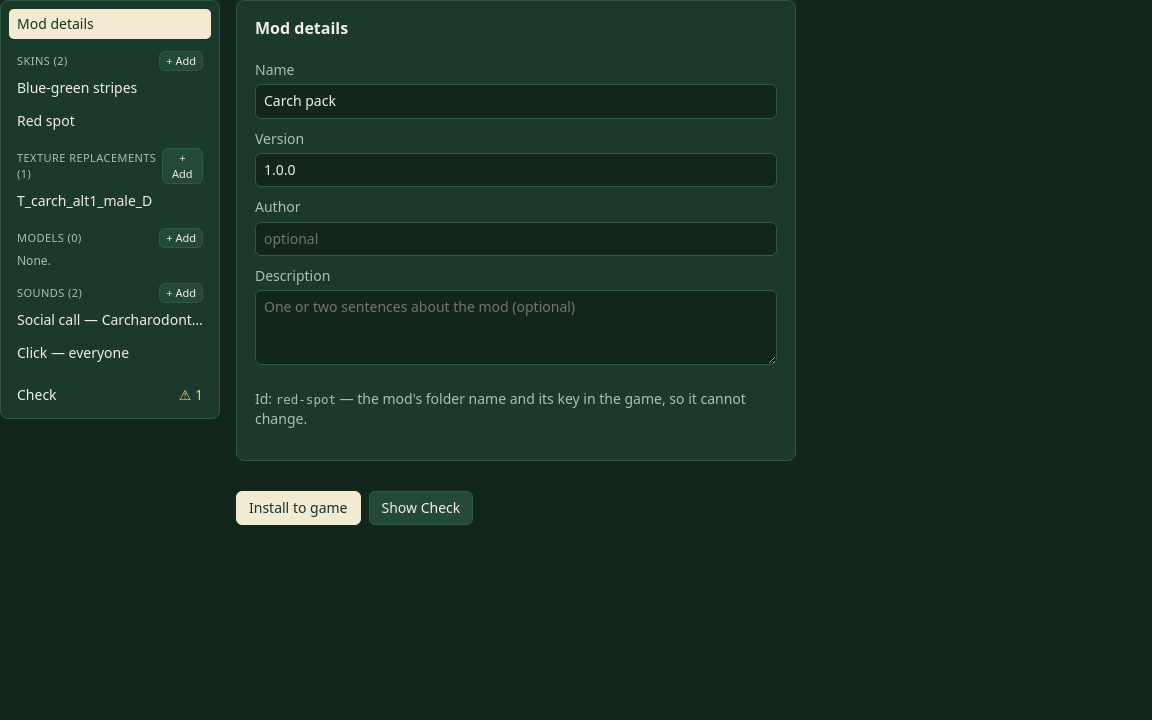
ModEditor › lists sounds under Sounds with who hears them and opens their page
The image size is (1152, 720).
Expected: the text "Sounds (2)" is shown, [17, 285, 82, 301]
Expected: the button "Click — everyone" is shown, [9, 338, 211, 368]
Click the button "Social call — Carcharodontosaurus".
click(110, 320)  # box [9, 305, 211, 336]
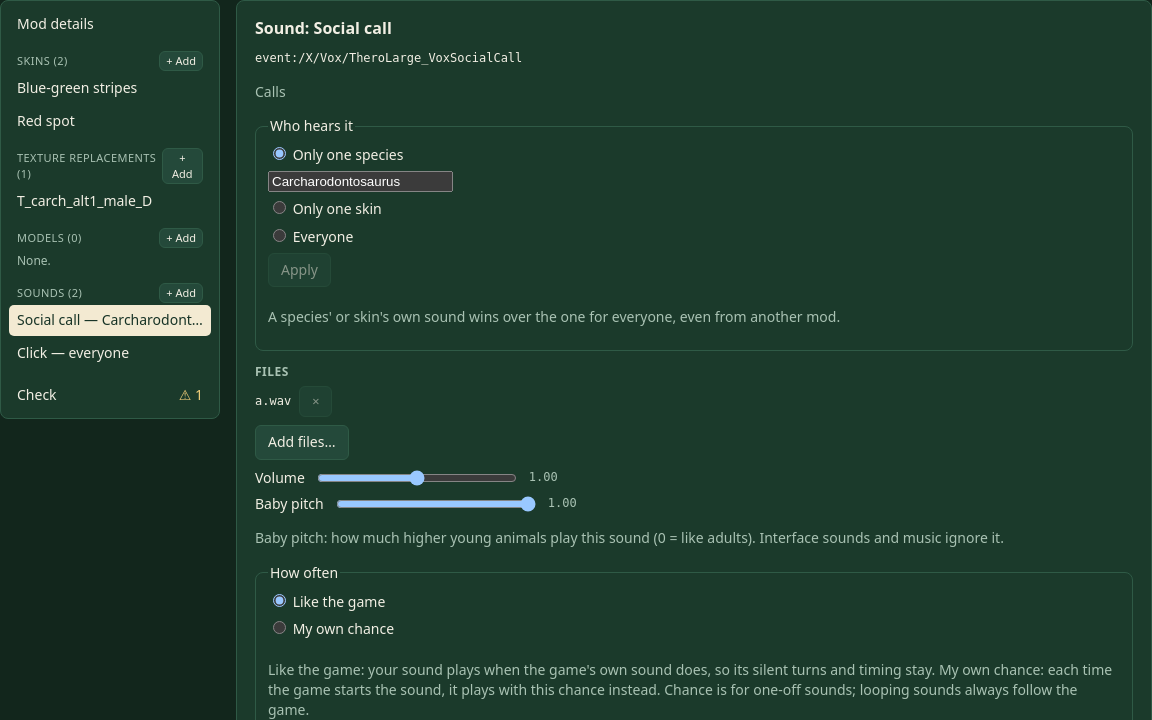
Expected: the heading "Sound: Social call" is shown, [255, 17, 392, 39]
